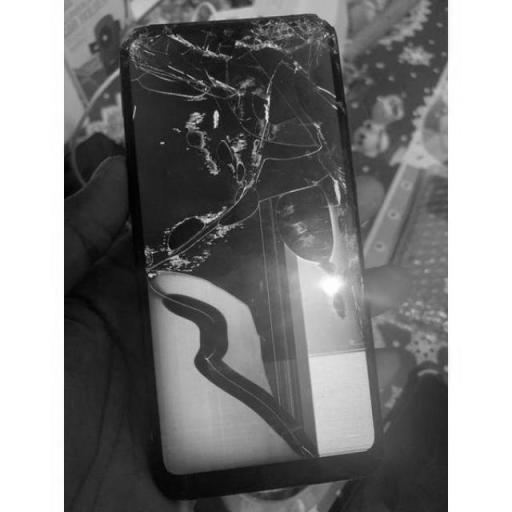phone: (128, 16, 384, 500)
